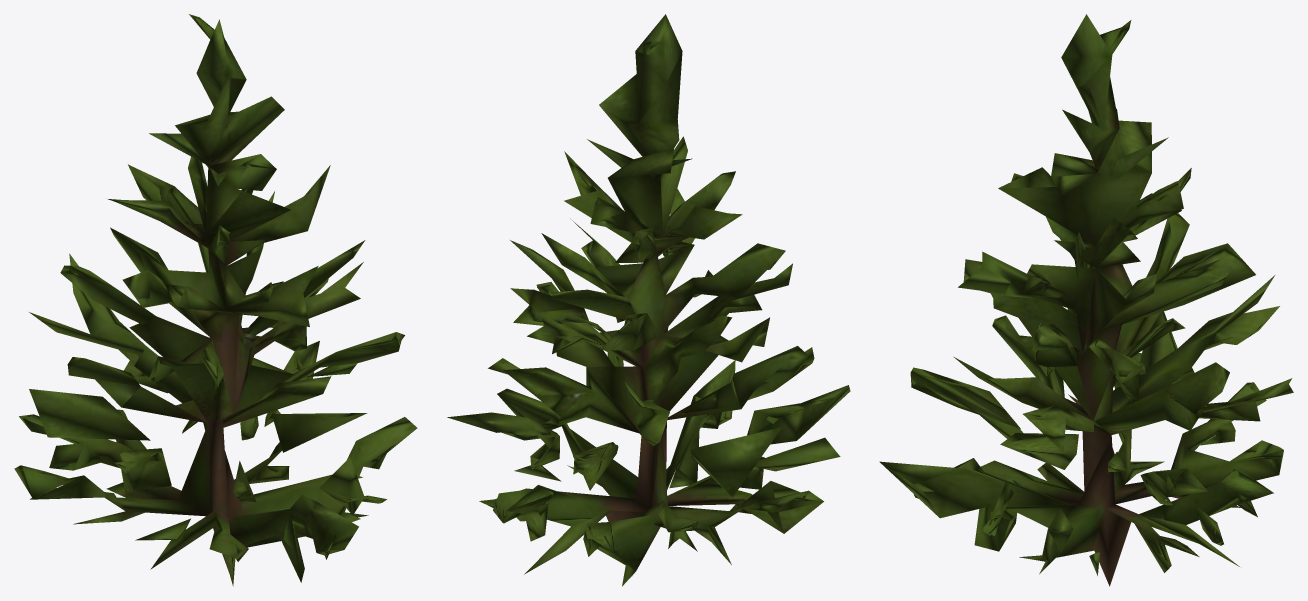
File: pino.glb
3 renders of one model, left to right at view 1: azimuth 30°, elevation 25°; view 2: azimuth 150°, elevation 25°; view 3: azimuth 270°, elevation 25°, orthographic. The views are drawn at different scales.
Parts seen in each view (by area): view 1: tripo_node_a86bff73-b7a5-4666-879d-e77ec128e876; view 2: tripo_node_a86bff73-b7a5-4666-879d-e77ec128e876; view 3: tripo_node_a86bff73-b7a5-4666-879d-e77ec128e876.
Part boxes in pixels (x1,y1,x2,y2): tripo_node_a86bff73-b7a5-4666-879d-e77ec128e876: (14, 14, 417, 586); tripo_node_a86bff73-b7a5-4666-879d-e77ec128e876: (447, 14, 850, 586); tripo_node_a86bff73-b7a5-4666-879d-e77ec128e876: (879, 14, 1293, 586).
Bounding box in the file's own units: 0.6486 × 1 × 0.6689.
1 material, 1 textured.
